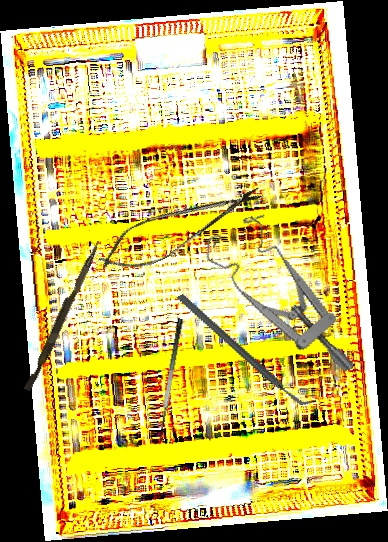Chopper: (175, 262, 315, 438)
Micro Scissor: (91, 170, 270, 285)
Pusher: (23, 237, 102, 394)
Spatula Surgical: (153, 318, 195, 443)
Speculum: (198, 200, 357, 402)
